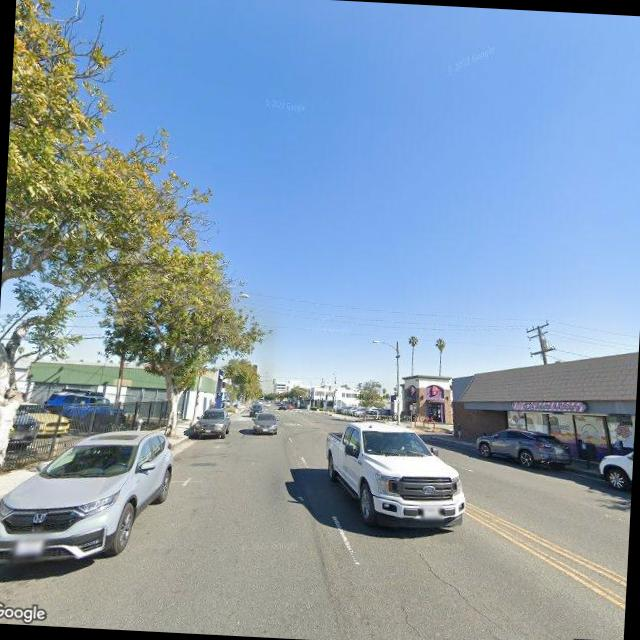pothole: (394, 532, 505, 632), (394, 602, 450, 640)
